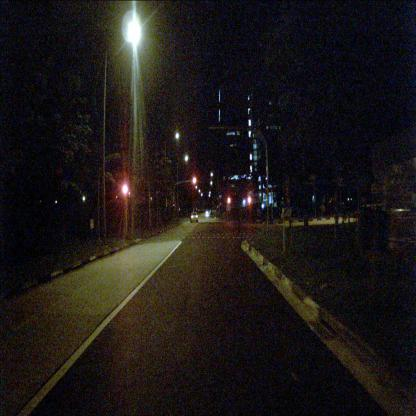vehicle-car: (190, 211, 198, 223), (206, 209, 210, 216)
